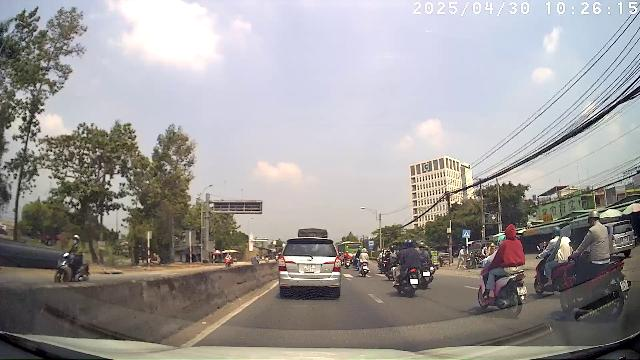423a-duong-nguoi-di-bo-sang-ngang-1: (462, 230, 470, 238)
